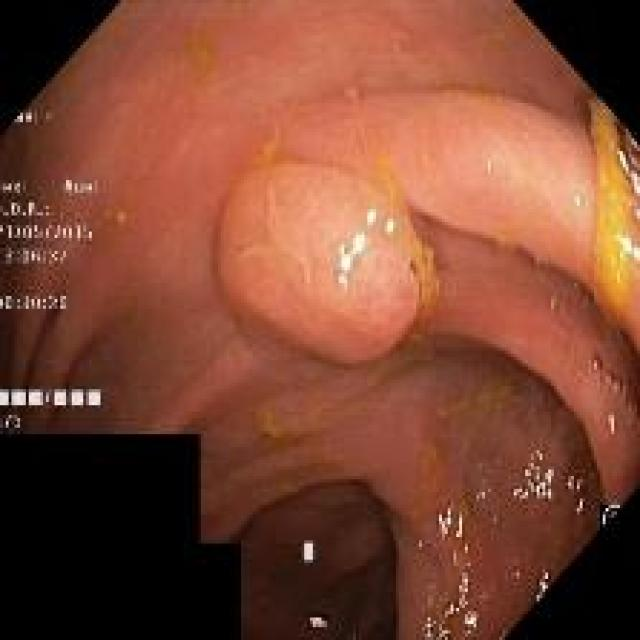Polyps: (218, 162, 441, 364)
